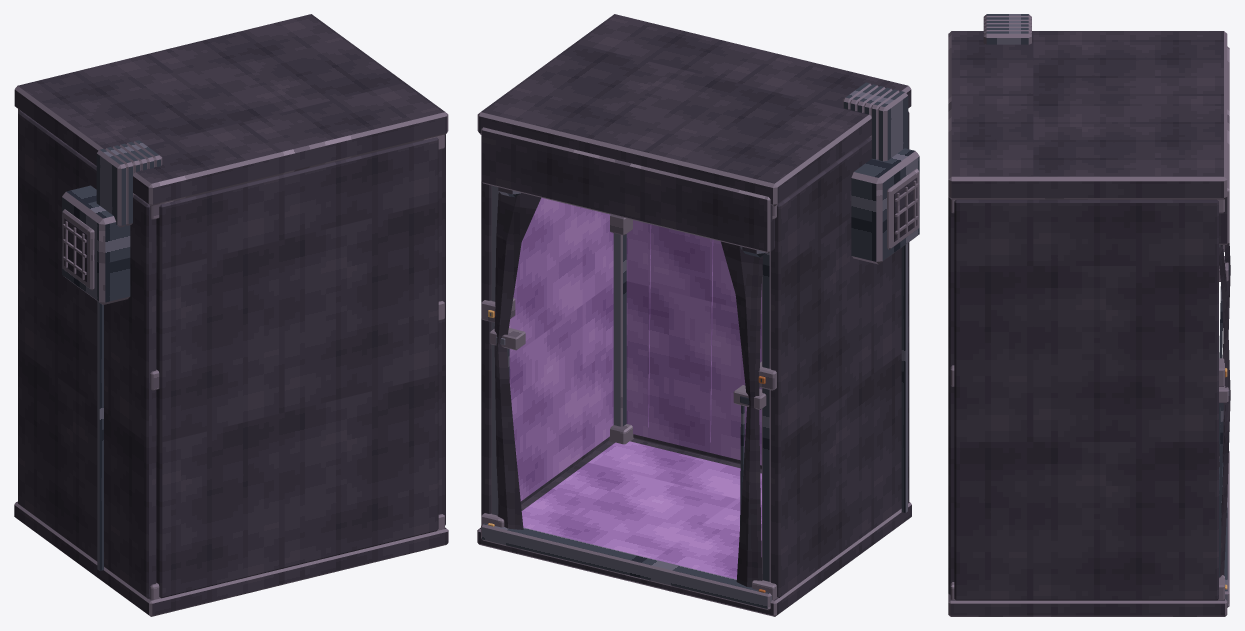
File: placed_grow_tent_3.obj
3 views of the same model, side by side, from view 1: azimuth 30°, elevation 25°; view 2: azimuth 150°, elevation 25°; view 3: azimuth 270°, elevation 25° (orthographic).
Parts seen in each view (by area): view 1: model; view 2: model; view 3: model.
Boxes of the visible parts, x1,y1,x2,y2 form: model: (14,14,448,616); model: (477,14,919,616); model: (948,14,1230,616).
Size of the model in its own units: 2.03 by 2.56 by 1.45.
